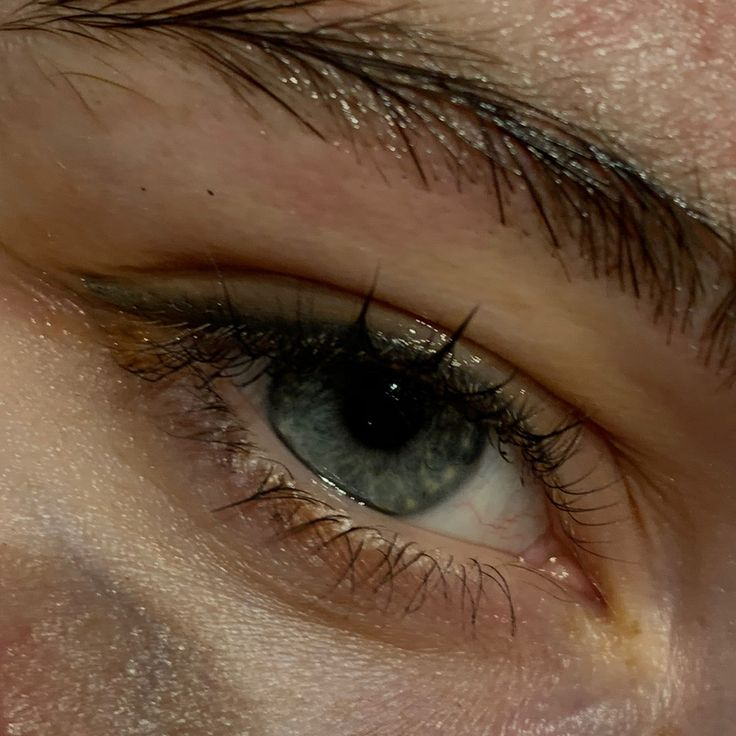iris: (265, 308, 486, 519)
pupil: (345, 382, 417, 452)
